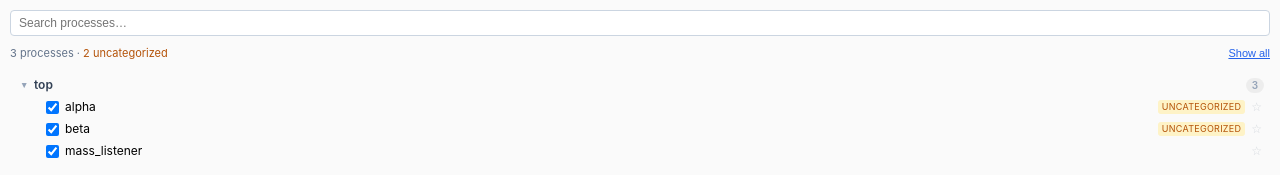
Test case: ProcessPanel (nesting tree) › filters processes by the search box
In the field with placeholder "Search processes…": (640, 23) [10,10,1270,36], type "alph"
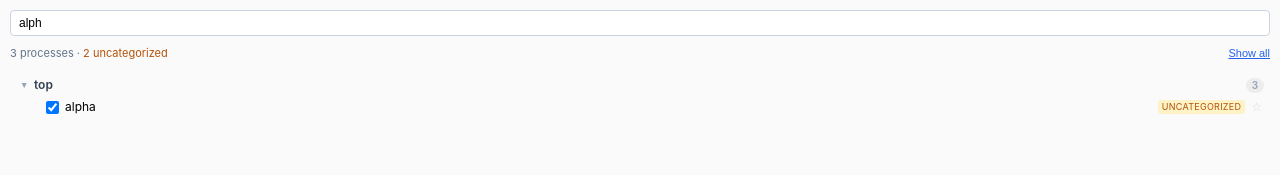
Expected: the text "alpha" is shown, [65,99,96,114]
Result: the text "beta" is gone
